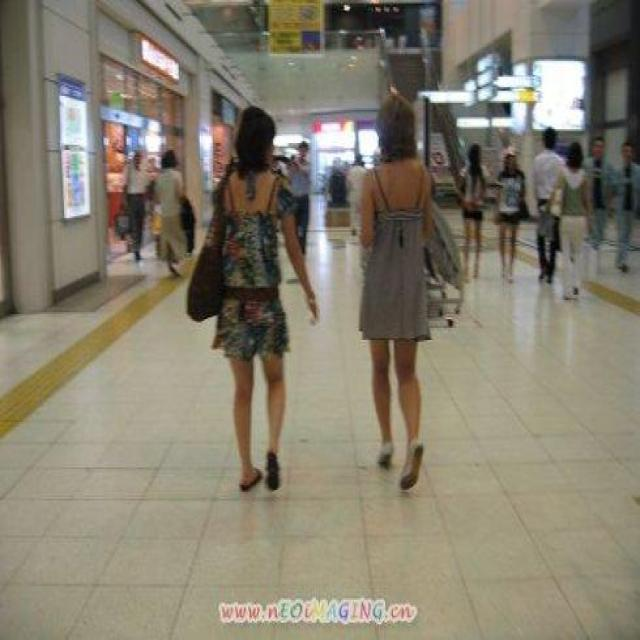non-fight: (178, 103, 324, 499), (336, 84, 469, 497)
